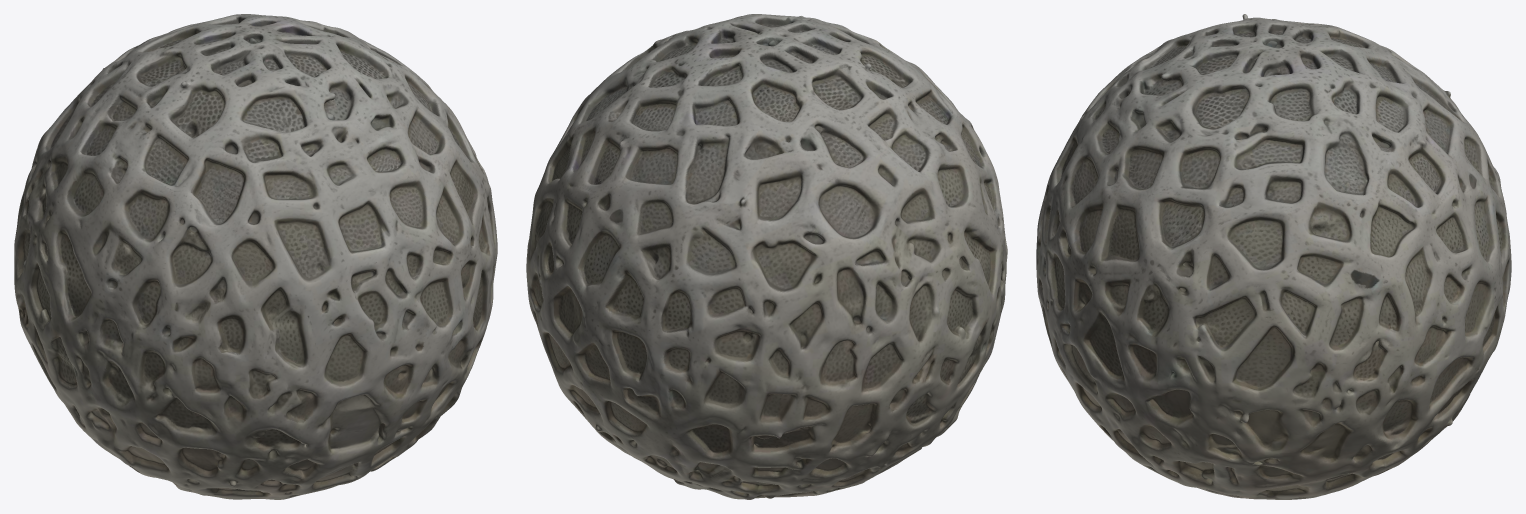
Rendered from detailed_realistic_model_default_02.glb.
The picture shows the model from 3 angles, left to right: view 1: azimuth 30°, elevation 25°; view 2: azimuth 150°, elevation 25°; view 3: azimuth 270°, elevation 25°; orthographic projection.
Parts seen in each view (by area): view 1: tripo_node_b3185d36-3f76-4b93-b3a6-2127de6c8cd5; view 2: tripo_node_b3185d36-3f76-4b93-b3a6-2127de6c8cd5; view 3: tripo_node_b3185d36-3f76-4b93-b3a6-2127de6c8cd5.
Part boxes in pixels (x1=…): tripo_node_b3185d36-3f76-4b93-b3a6-2127de6c8cd5: x1=14, y1=14, x2=497, y2=499; tripo_node_b3185d36-3f76-4b93-b3a6-2127de6c8cd5: x1=526, y1=14, x2=1007, y2=499; tripo_node_b3185d36-3f76-4b93-b3a6-2127de6c8cd5: x1=1036, y1=14, x2=1511, y2=499.
Bounding box in the file's own units: 0.9988 × 0.9999 × 0.9957.
Materials: 1 (1 with a texture image).
